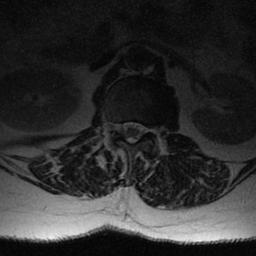CCS_normal: (128, 112, 136, 152)
LFS_stenosis: (146, 114, 155, 142)
LLS_stenosis: (136, 113, 146, 147)
RFS_normal: (111, 111, 119, 141)
RLS_normal: (119, 112, 128, 145)
